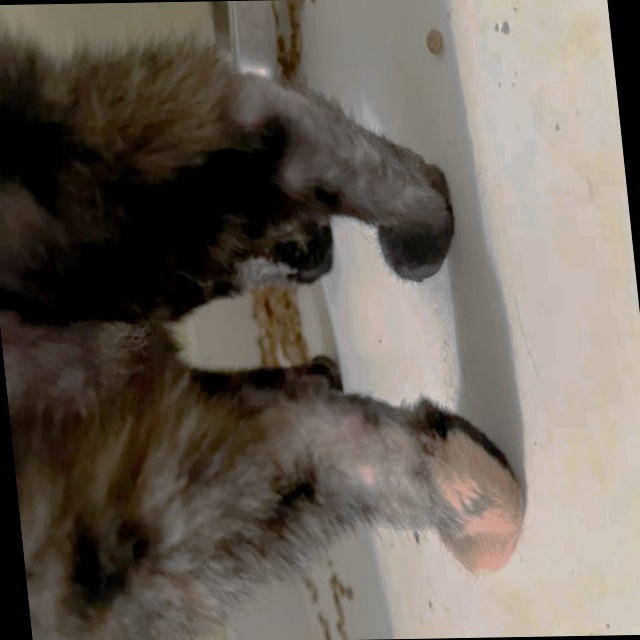hairloss: (292, 418, 438, 469), (246, 77, 315, 122)
